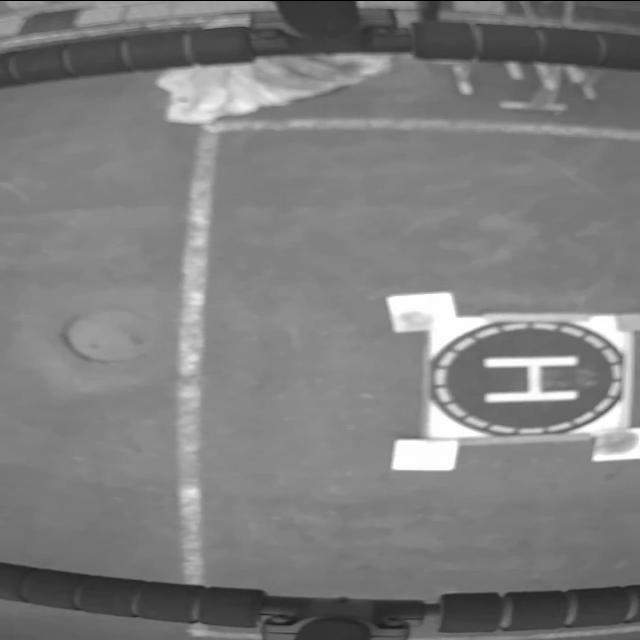Helipad: (482, 355, 580, 402)
